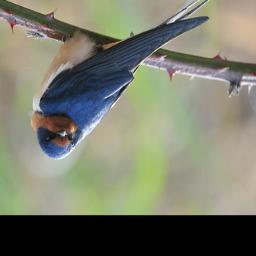Swallow: (29, 0, 243, 160)
